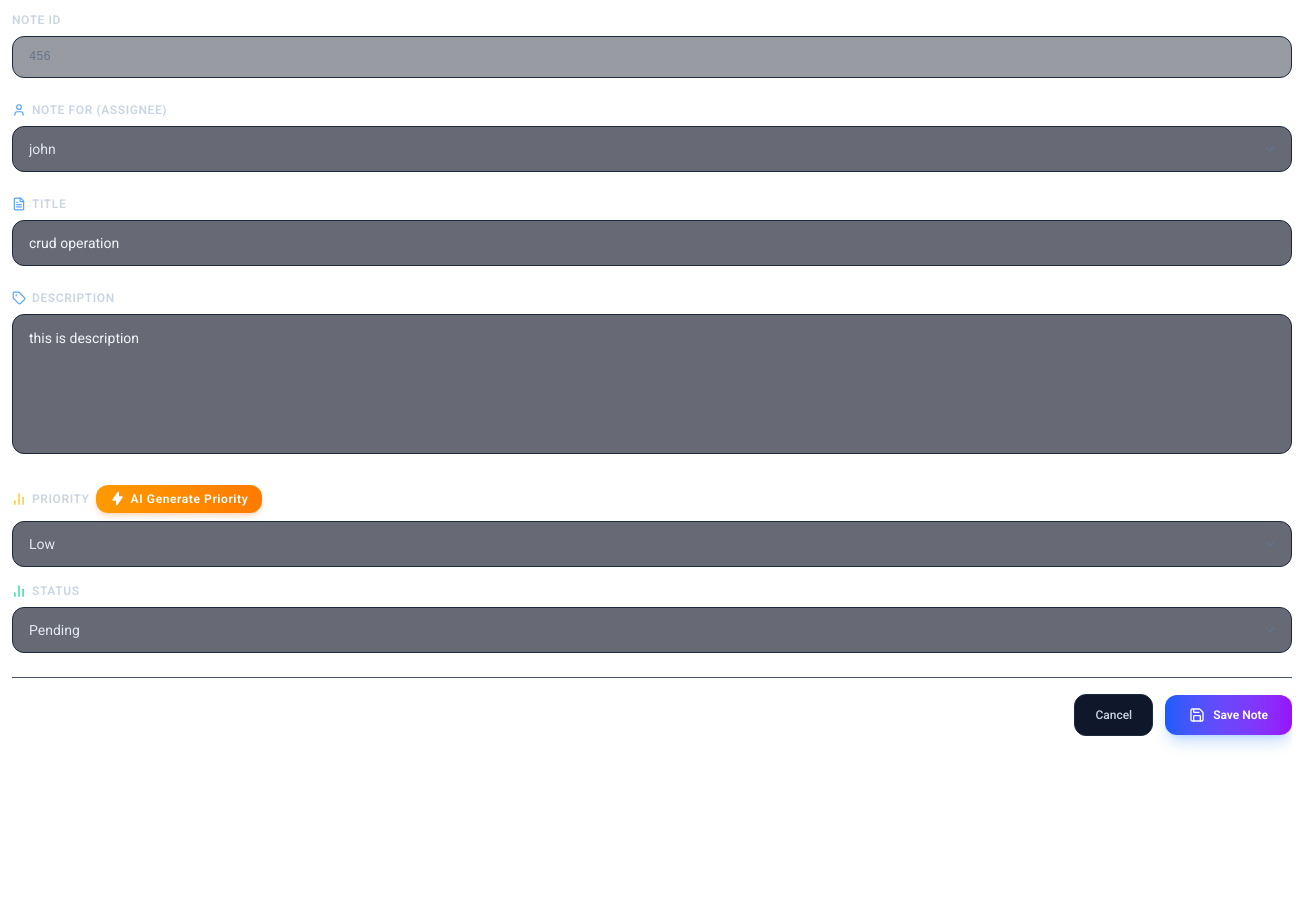
Test: Edit Note › shall show loading state will updating
The width and height of the screenshot is (1304, 912).
Replace the text in the field with placeholder "Enter note title" with "testing" at (652, 243), box top-left (12, 220), bottom-right (1292, 266)
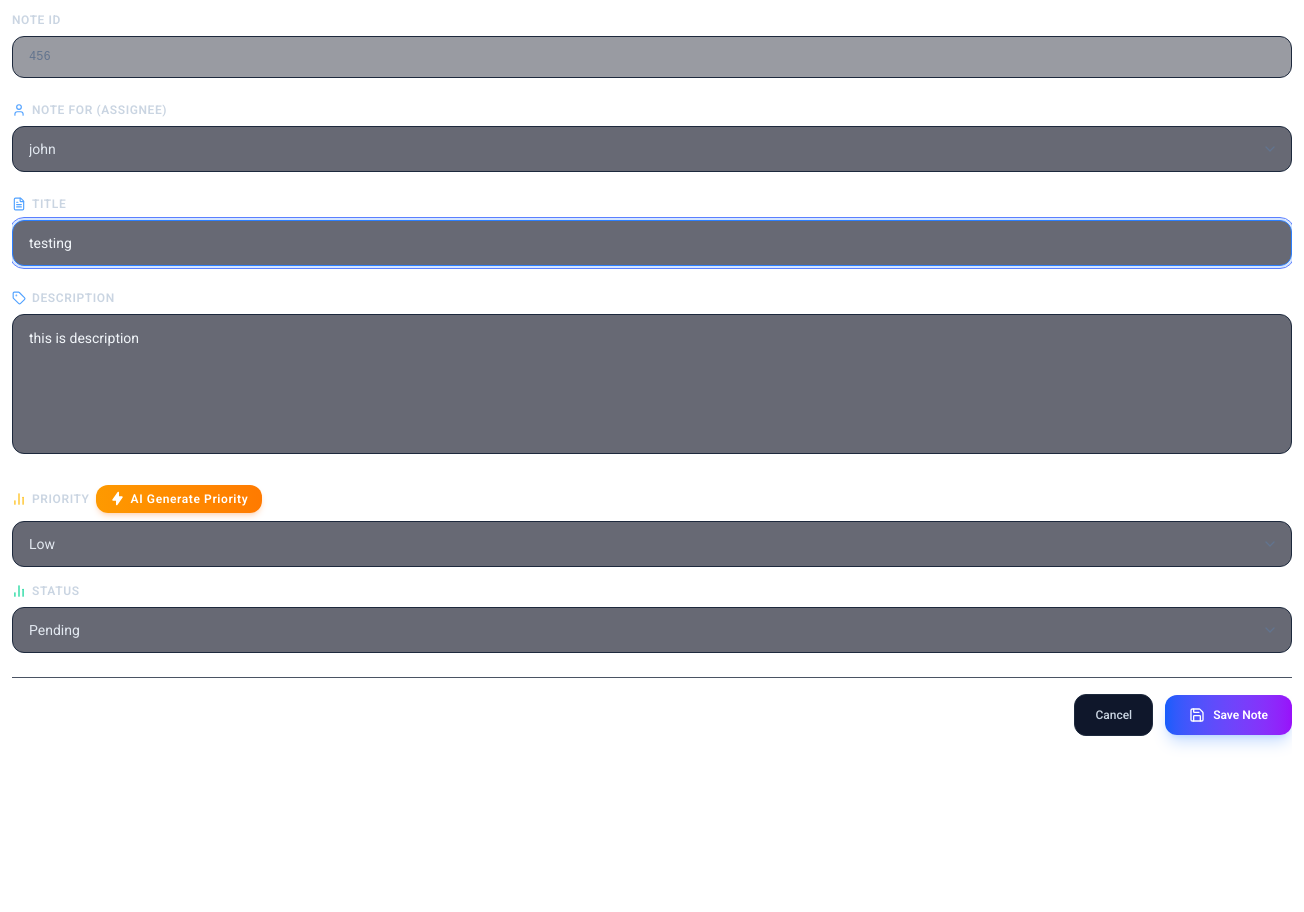
Click the button "Save Note".
click(1229, 715)  # box top-left (1165, 695), bottom-right (1292, 735)
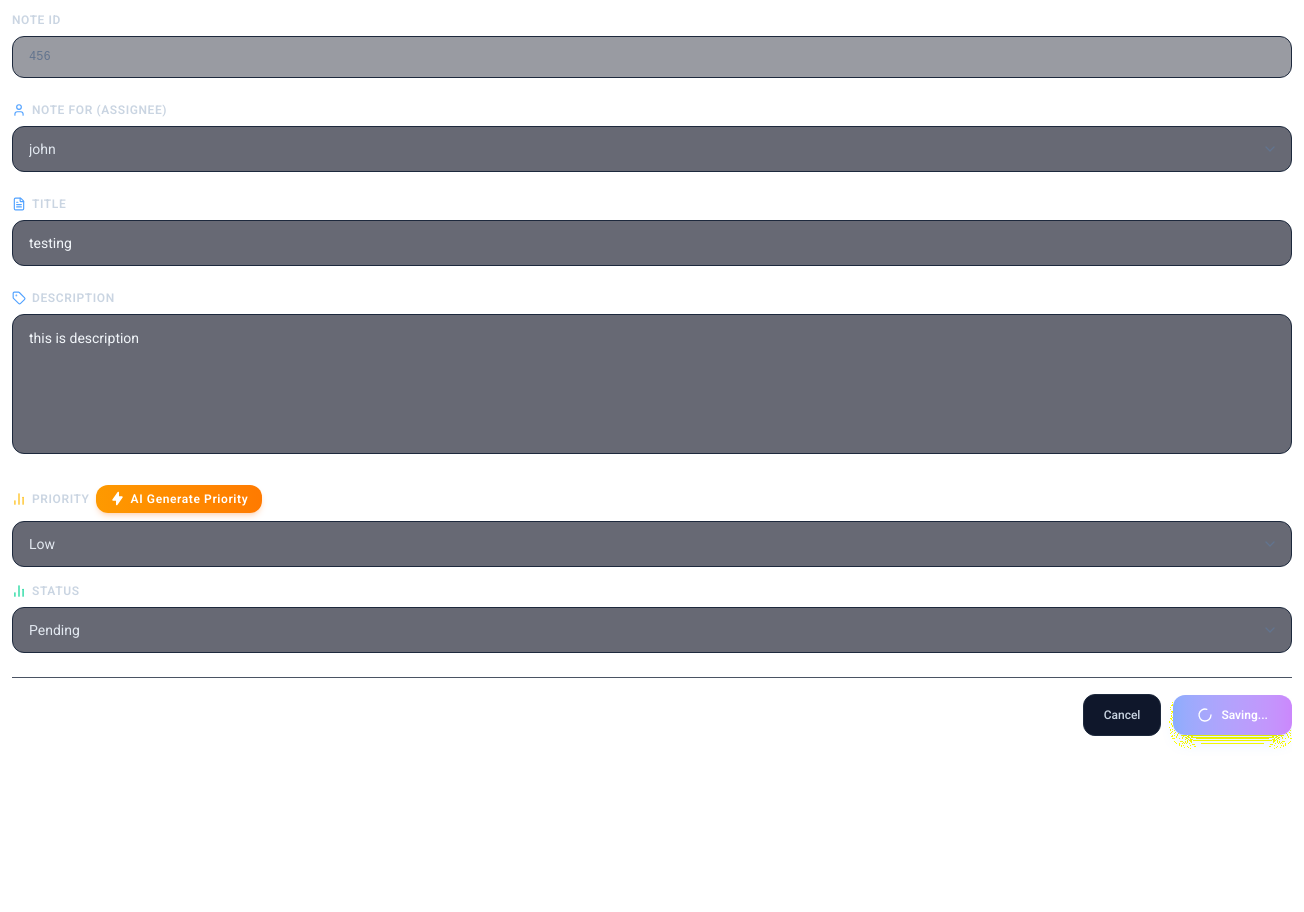
expect the text "Saving..." is shown: met, box top-left (1221, 707), bottom-right (1268, 723)
